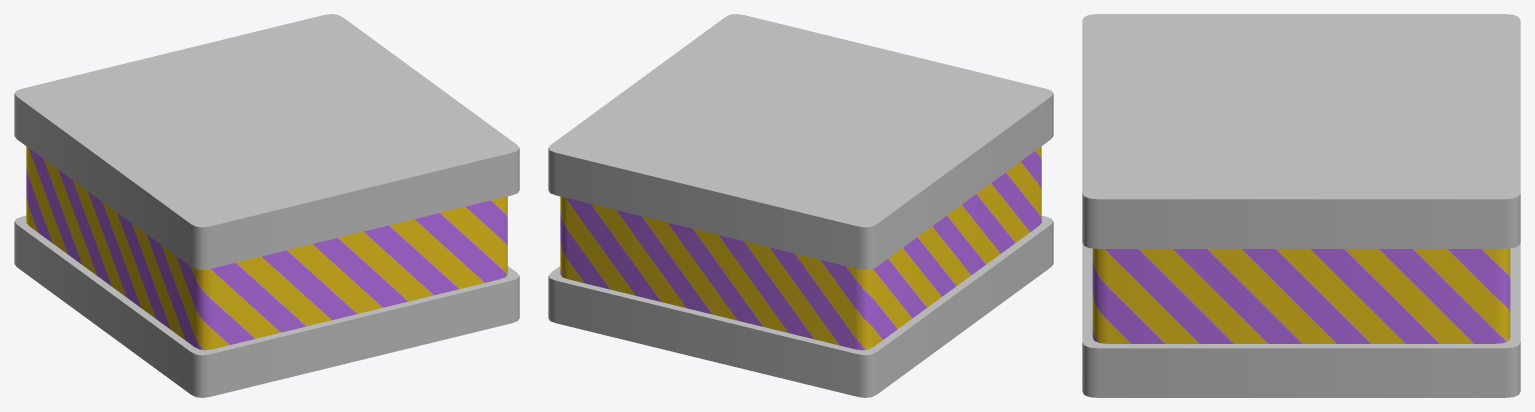
The model's file is YELLOW_Cube_move.fbx.
The picture shows the model from 3 angles, left to right: view 1: azimuth 30°, elevation 25°; view 2: azimuth 150°, elevation 25°; view 3: azimuth 270°, elevation 25°; orthographic projection. The views are drawn at different scales.
Parts seen in each view (by area): view 1: YELLOW_Cube_move, RotateMesh; view 2: YELLOW_Cube_move, RotateMesh; view 3: YELLOW_Cube_move, RotateMesh.
Part boxes in pixels (box(x1,y1,x2,y2)): YELLOW_Cube_move: box(14, 14, 519, 397); RotateMesh: box(26, 146, 507, 350); YELLOW_Cube_move: box(548, 14, 1053, 397); RotateMesh: box(560, 146, 1041, 350); YELLOW_Cube_move: box(1082, 14, 1520, 397); RotateMesh: box(1092, 248, 1510, 343).
Bounding box in the file's own units: 53.76 × 26.88 × 53.76.
